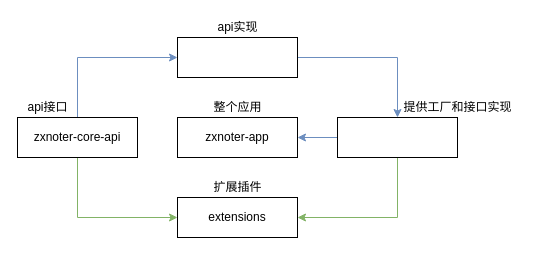
The diagram is 535 pixels wide and 255 high, and some of its shapes have lost their labels. Here are the shapes that lost their labels. From the top down, the centre of each, then its label:
pixel 237 57: zxnoter-core
pixel 397 137: zxnoter-core-utils
